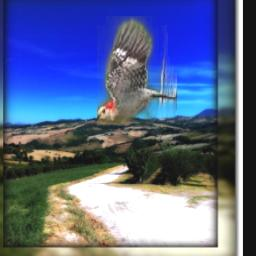Woodpecker: (96, 17, 176, 126)
